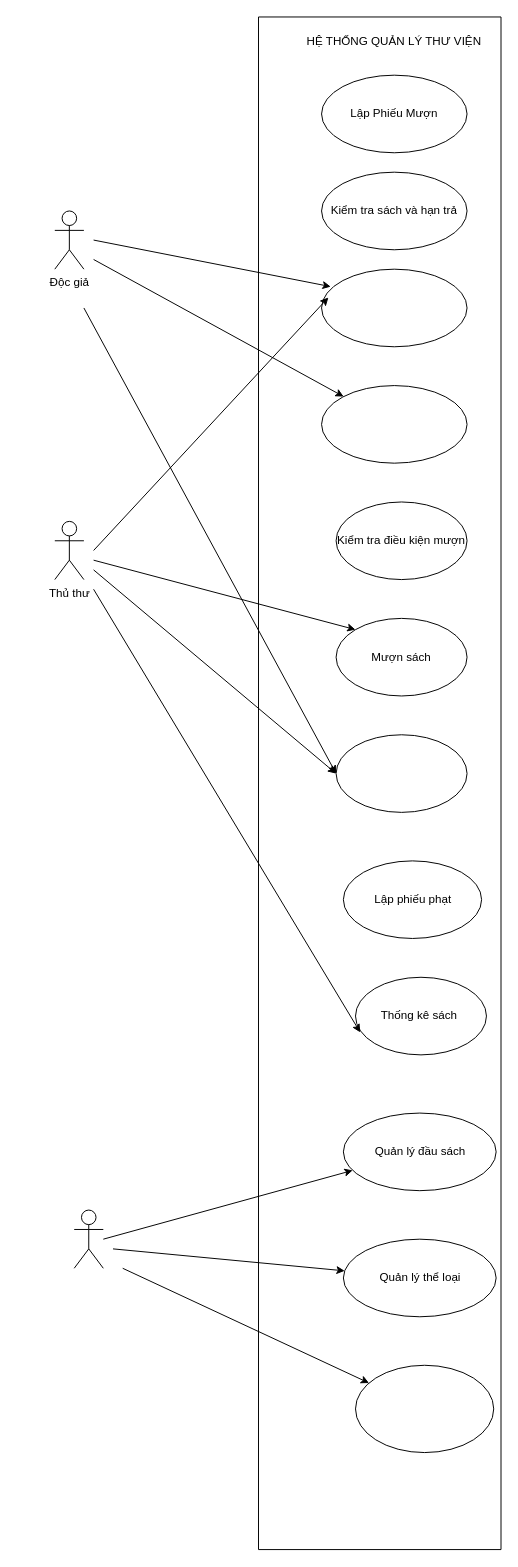
Image size: 518x1567. Some labels were removed from this diagram. Each missing label, with the centre of its shape:
Gia hạn thẻ: point 394,424
Nhân viên quản lý nhà sách: point 88,1238
Quản lý nhà xuất bản: point 424,1408
Trả sách: point 401,773
Đăng kí cấp thẻ: point 394,307
